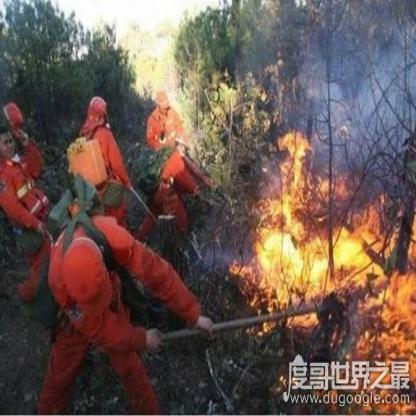fire: (233, 125, 414, 406)
other: (48, 218, 190, 409), (1, 99, 50, 266), (148, 87, 202, 231), (70, 108, 127, 214)
